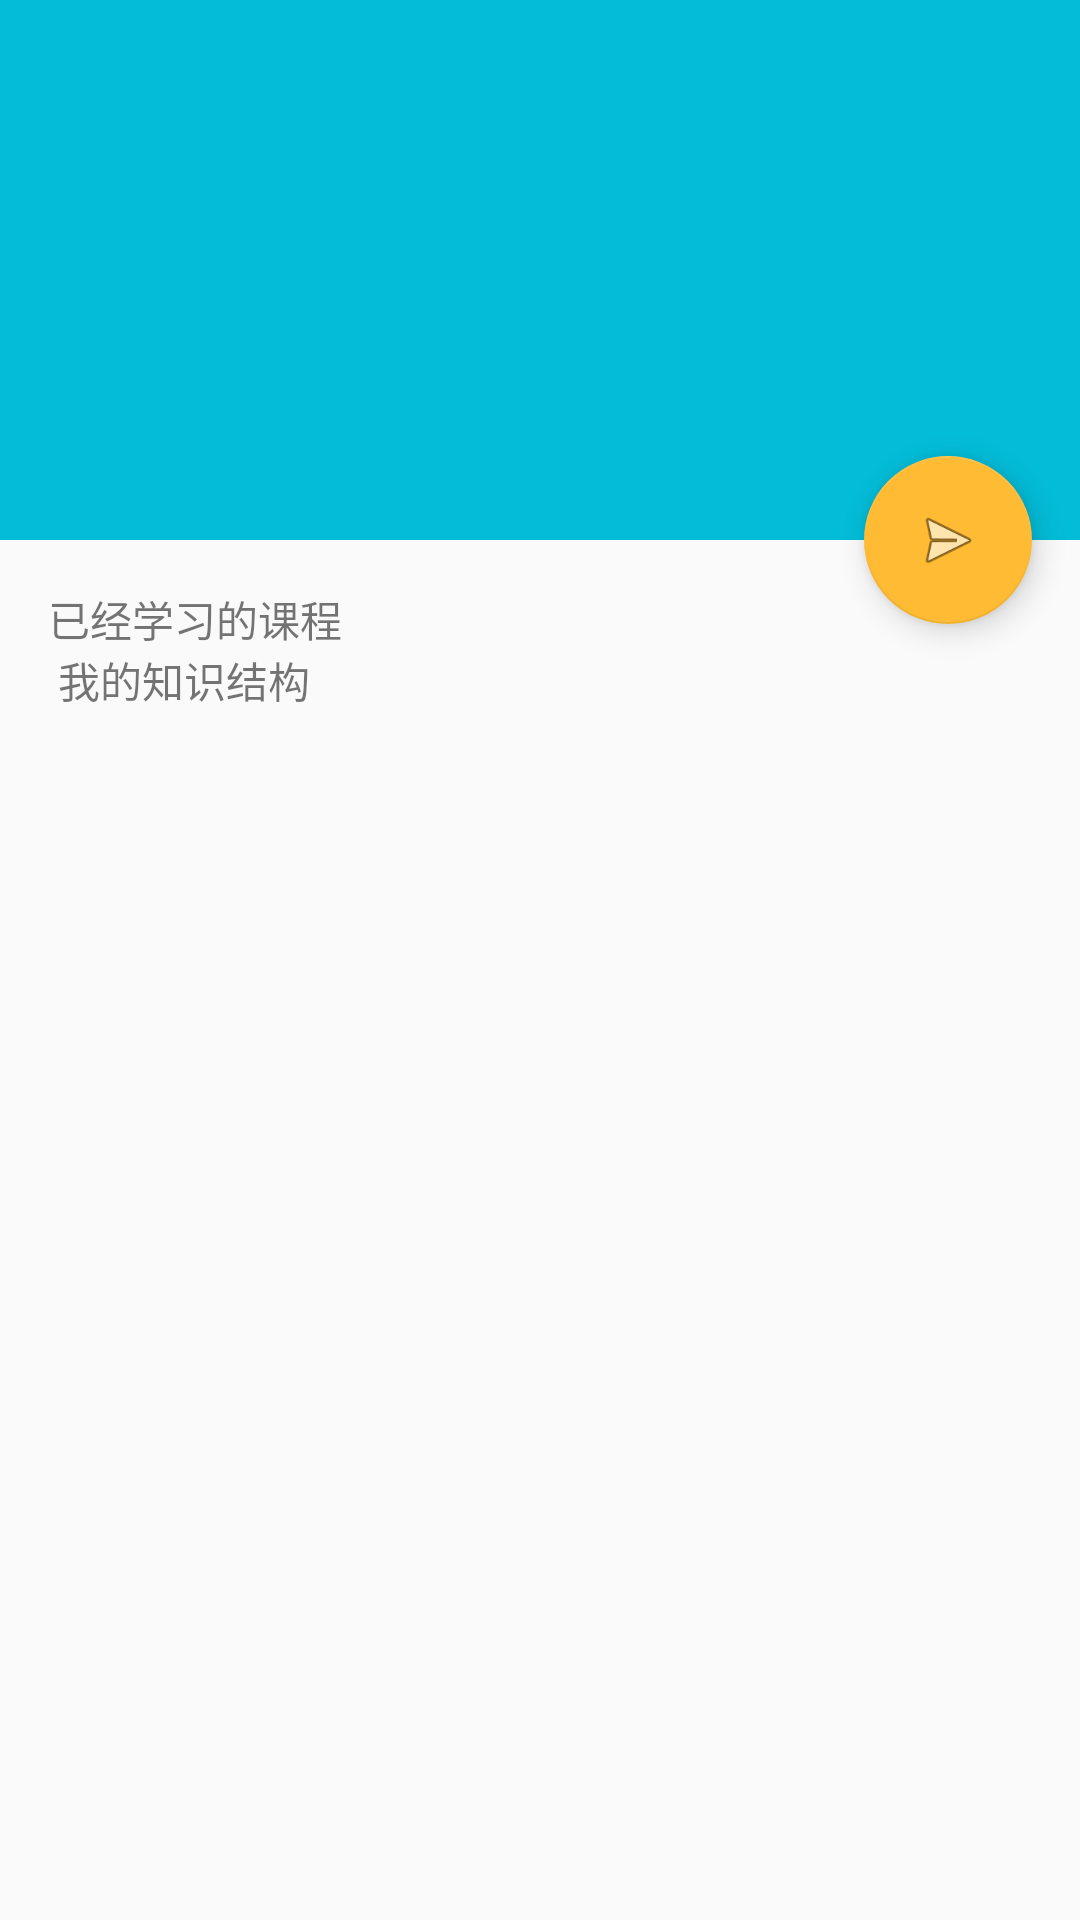

Point at icon controls on the screen. Image size 1080px x 1920px, points as (x=x, y=y).
send: (x=948, y=540)
